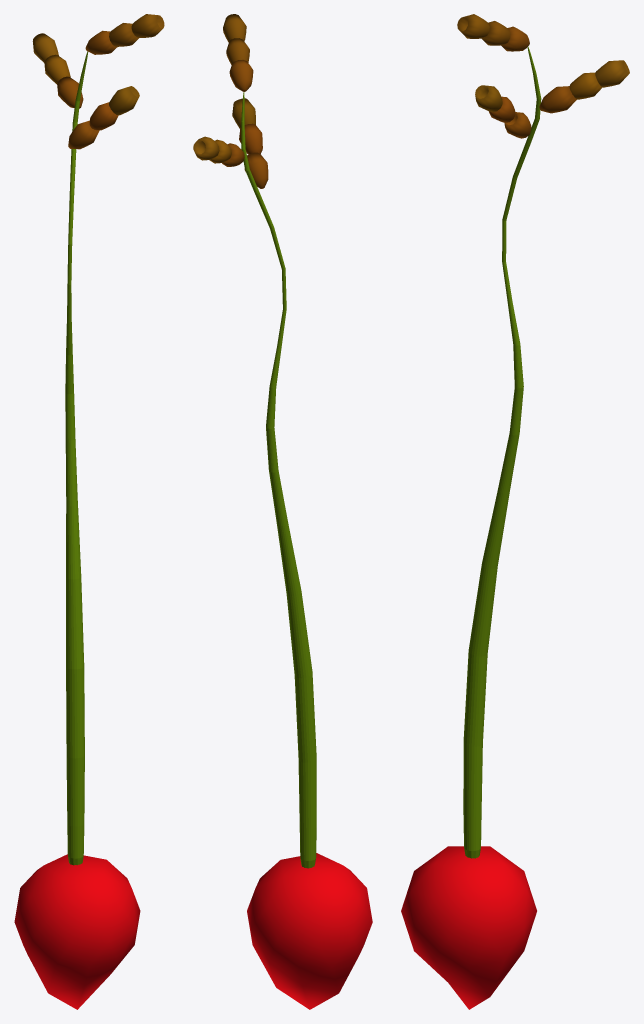
Rendered from radishSeediongDyingSDMRduced.fbx.
3 views of the same model, side by side, from view 1: azimuth 30°, elevation 25°; view 2: azimuth 150°, elevation 25°; view 3: azimuth 270°, elevation 25° (orthographic). The views are drawn at different scales.
Parts seen in each view (by area): view 1: Icosphere, Cylinder.003, Cylinder.010, Cylinder.013, Cylinder.007, Cylinder.005, Cylinder.008, Cylinder.014, Cylinder.015, Cylinder.006, Cylinder.011; view 2: Icosphere, Cylinder.003, Cylinder.006, Cylinder.007, Cylinder.008, Cylinder.013, Cylinder.010, Cylinder.015, Cylinder.011; view 3: Icosphere, Cylinder.003, Cylinder.005, Cylinder.015, Cylinder.014, Cylinder.013, Cylinder.010.
Part boxes in pixels (box(x1,y1,x2,y2)): Icosphere: box(14, 854, 140, 1009); Cylinder.003: box(65, 51, 88, 865); Cylinder.010: box(109, 86, 139, 115); Cylinder.013: box(131, 14, 164, 37); Cylinder.007: box(68, 120, 99, 149); Cylinder.005: box(57, 76, 83, 108); Cylinder.008: box(89, 102, 118, 130); Cylinder.014: box(44, 54, 70, 84); Cylinder.015: box(32, 33, 58, 62); Cylinder.006: box(85, 30, 117, 54); Cylinder.011: box(109, 23, 138, 46); Icosphere: box(247, 853, 372, 1009); Cylinder.003: box(241, 92, 316, 868); Cylinder.006: box(229, 60, 253, 91); Cylinder.007: box(244, 152, 268, 188); Cylinder.008: box(239, 123, 262, 154); Cylinder.013: box(223, 14, 246, 42); Cylinder.010: box(232, 98, 255, 128); Cylinder.015: box(193, 136, 219, 160); Cylinder.011: box(226, 38, 249, 64); Icosphere: box(401, 846, 536, 1009); Cylinder.003: box(463, 46, 541, 858); Cylinder.005: box(539, 86, 576, 113); Cylinder.015: box(595, 60, 629, 87); Cylinder.014: box(569, 72, 602, 99); Cylinder.013: box(457, 14, 489, 38); Cylinder.010: box(475, 85, 502, 112).
Bounding box in the file's own units: 248 × 1673 × 336.
